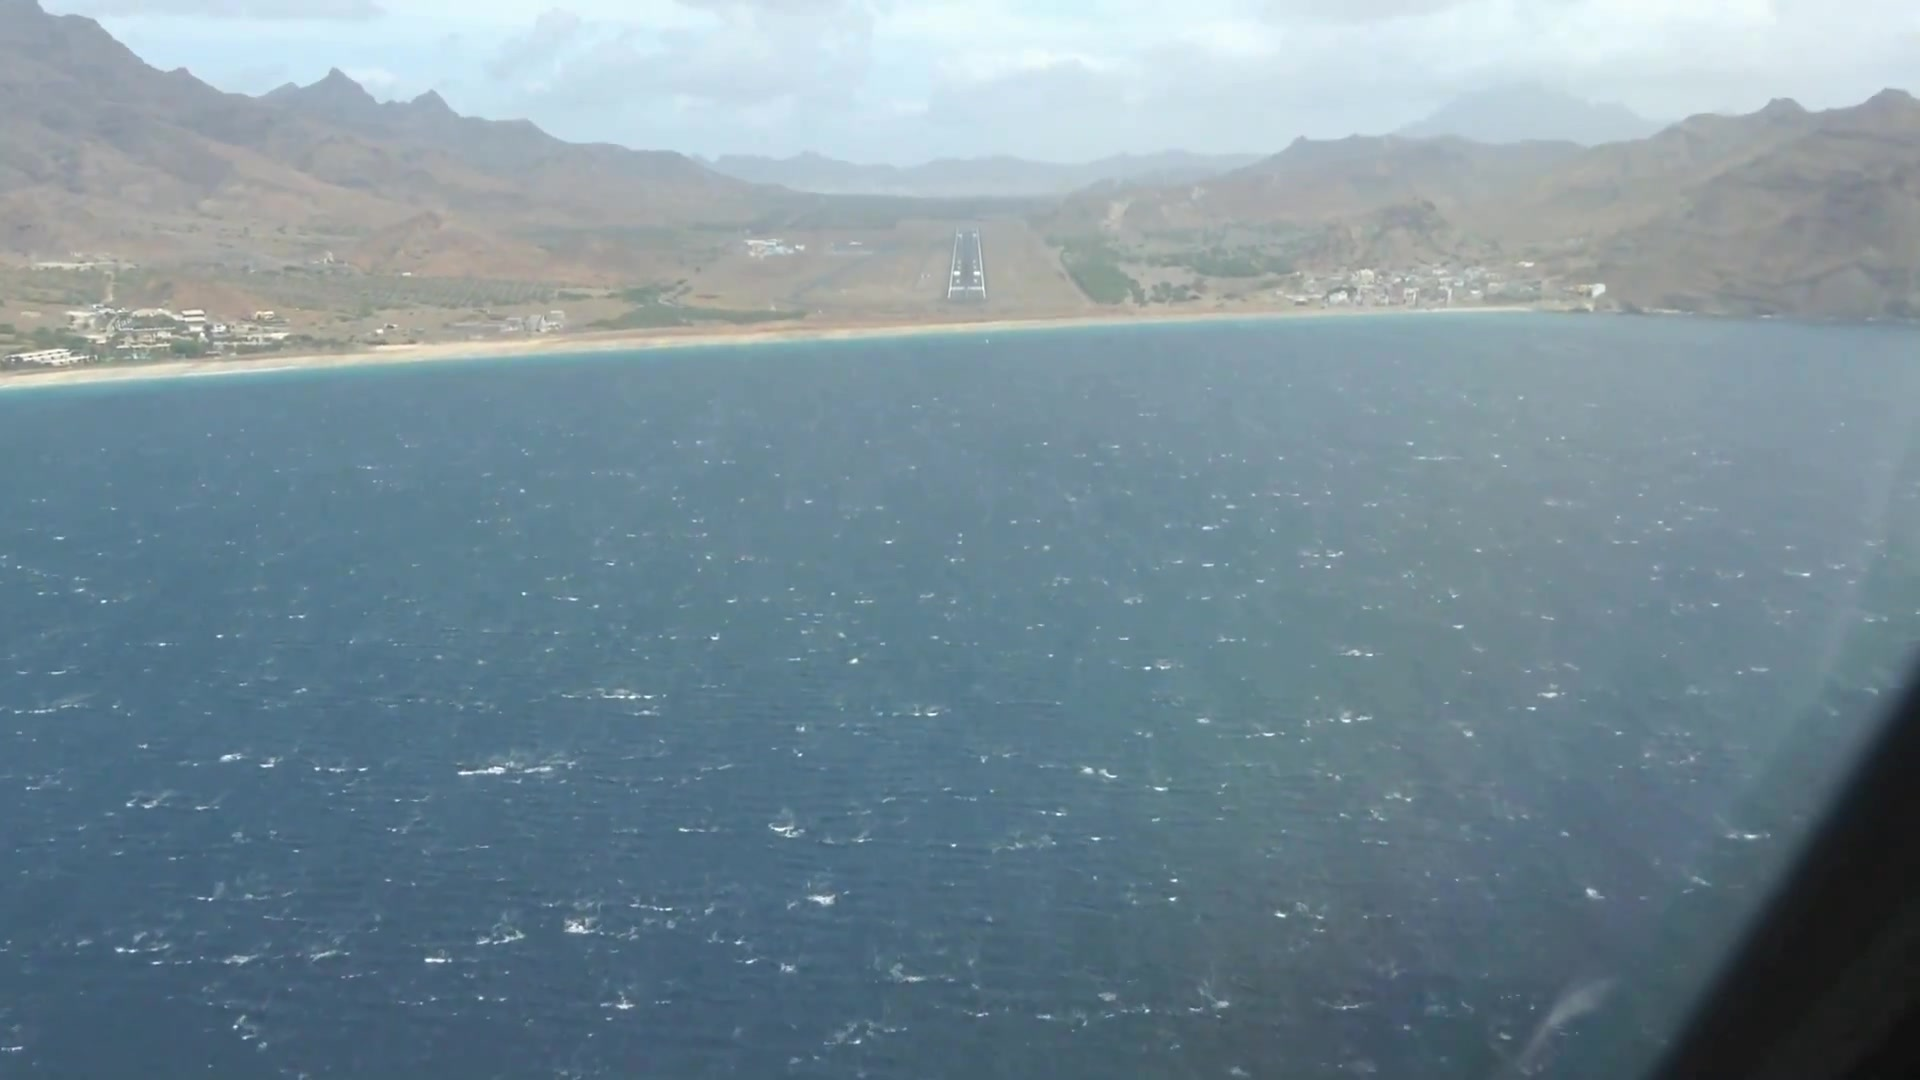entrance: (949, 286, 982, 291)
runway: (945, 228, 986, 299)
